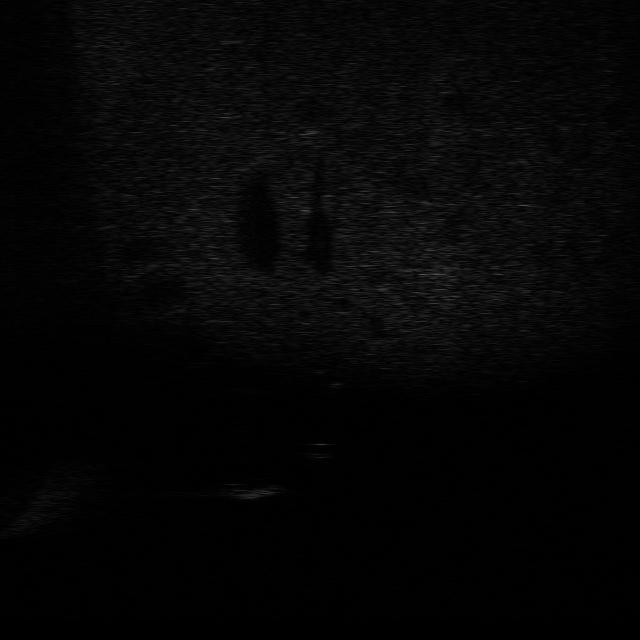ball: (302, 438, 340, 462)
human body: (294, 347, 345, 407)
square cage: (218, 474, 288, 504)
